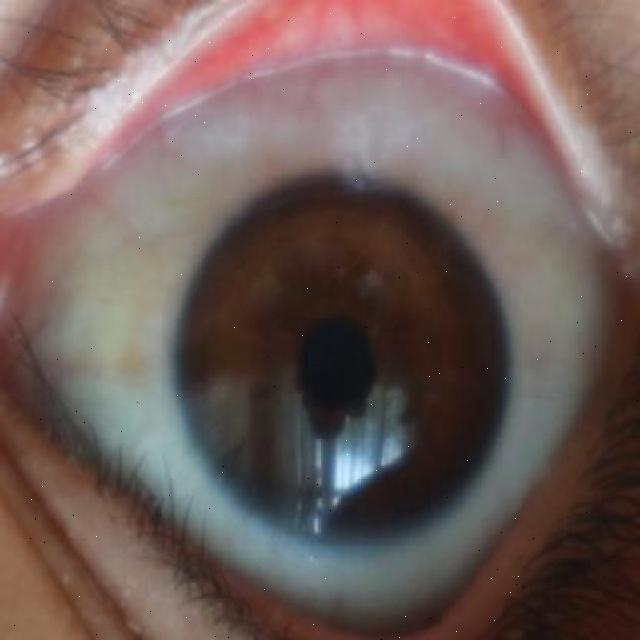Normal: (174, 176, 508, 555)
